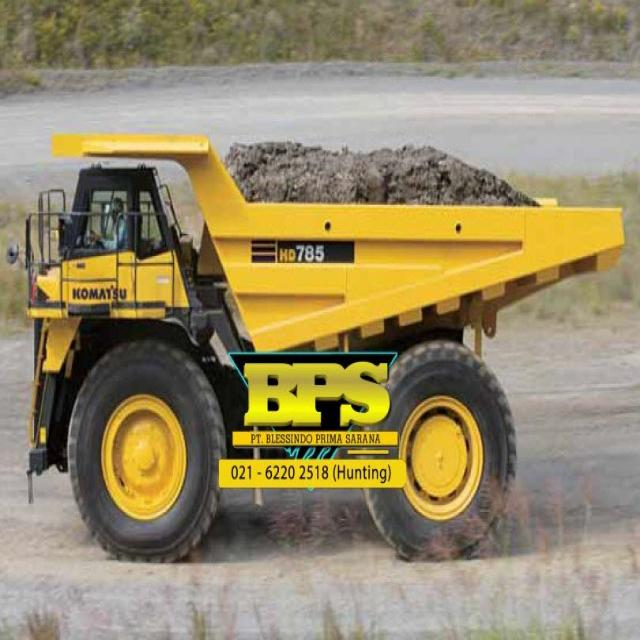dump_truck: (15, 123, 626, 576)
